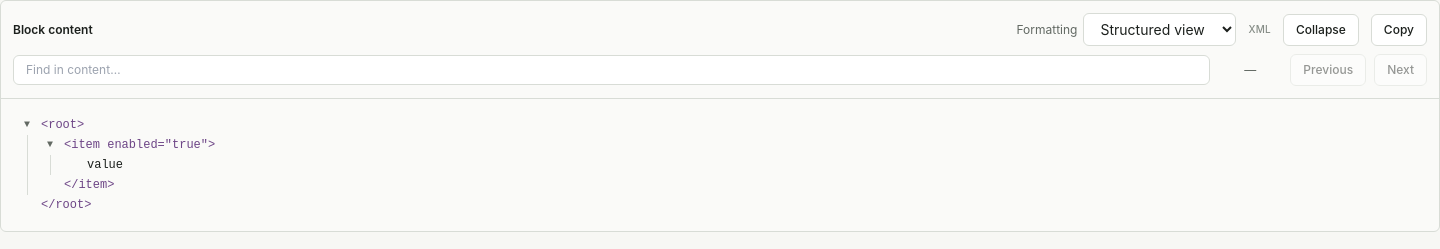
Test: SearchableContentViewer › structures and highlights XML with collapsible scopes
Expected: the element named "Structured XML" is shown, [17, 115, 1423, 215]
Click the button named "Collapse line 1" at (27, 125), box [17, 115, 37, 135]
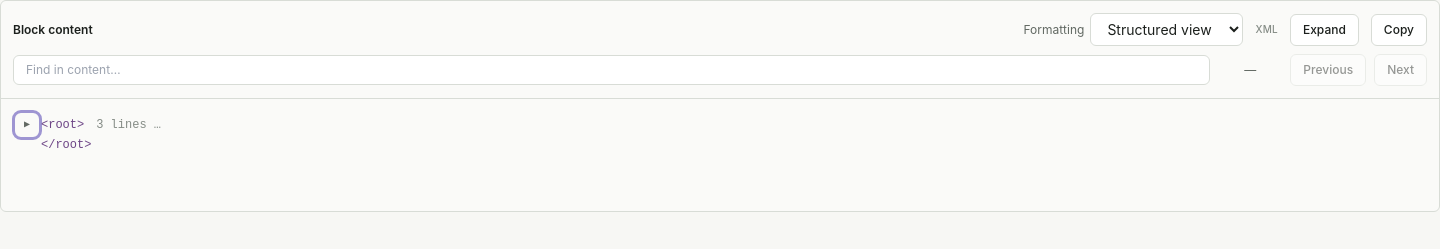
Expected: the text "<item enabled=\"true\">" is gone
